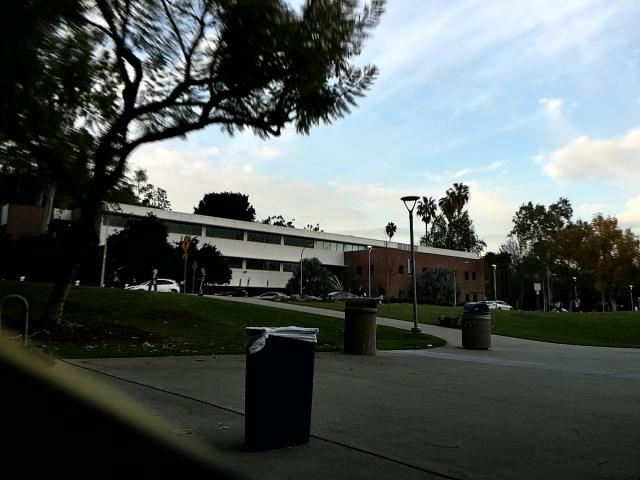trashcan_open: (237, 325, 322, 449)
